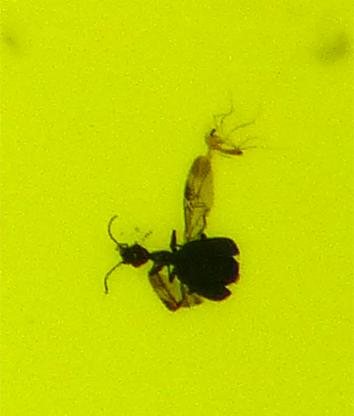Coleoptera: (100, 153, 243, 316)
Nematocera: (200, 100, 254, 159)
